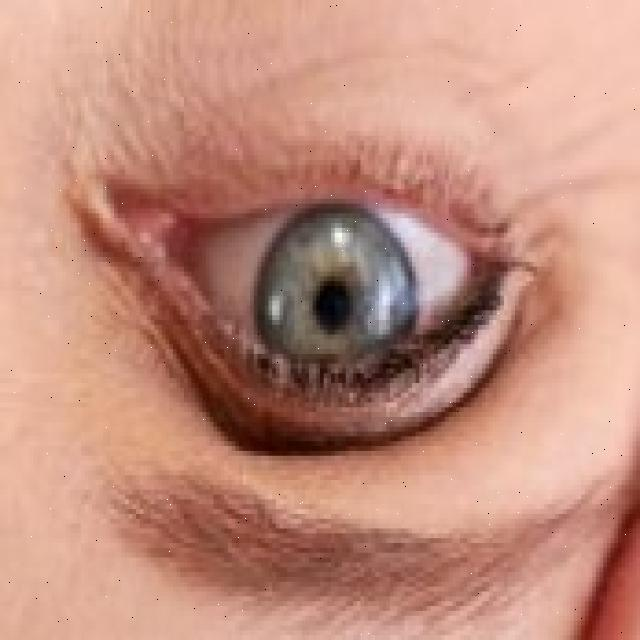Normal: (256, 200, 419, 414)
